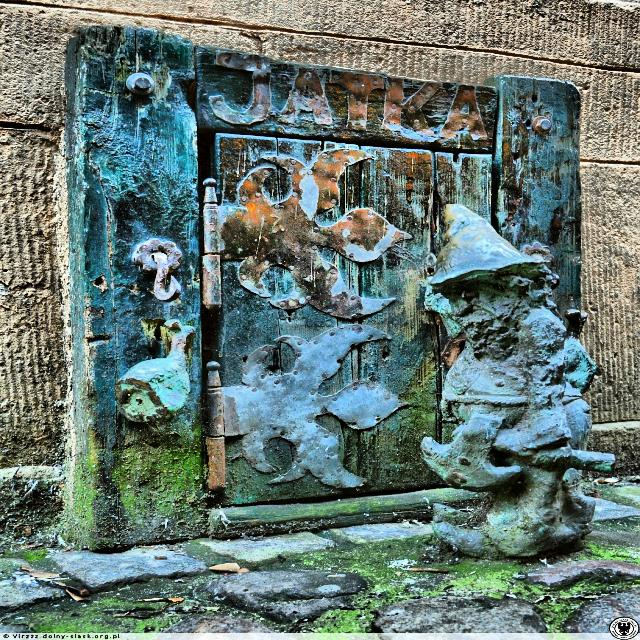Rzeznik: (422, 205, 613, 557)
